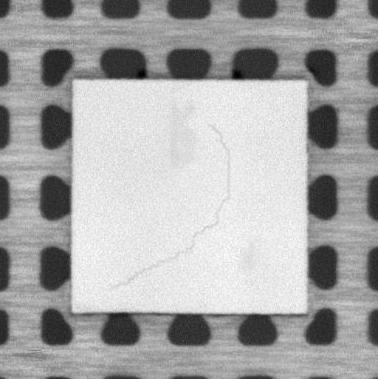DIE_CRACK: (110, 122, 232, 291)
